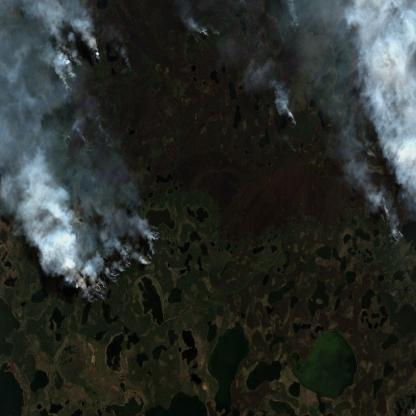fire: (69, 207, 164, 307), (370, 126, 416, 256), (56, 22, 108, 94), (182, 11, 224, 42), (279, 84, 301, 138), (283, 0, 303, 33), (119, 46, 134, 75)
